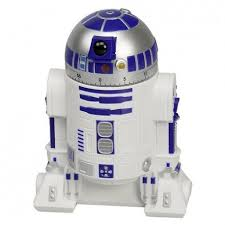r2d2: (32, 7, 194, 218)
